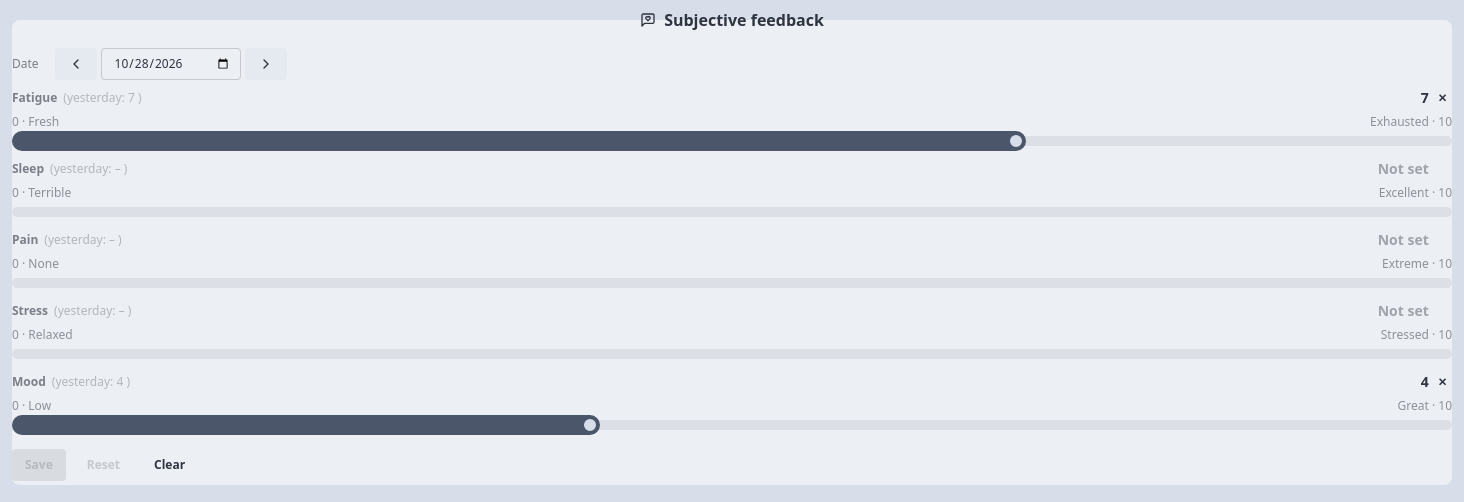
HooperIndexForm › restores the loaded values with the Reset button
Expected: the button "Reset" is disabled, [74,449,133,481]
Set the slider labelled "fatigue (yesterday: 7 )" to "9" at (1302, 141), box [12,131,1452,151]
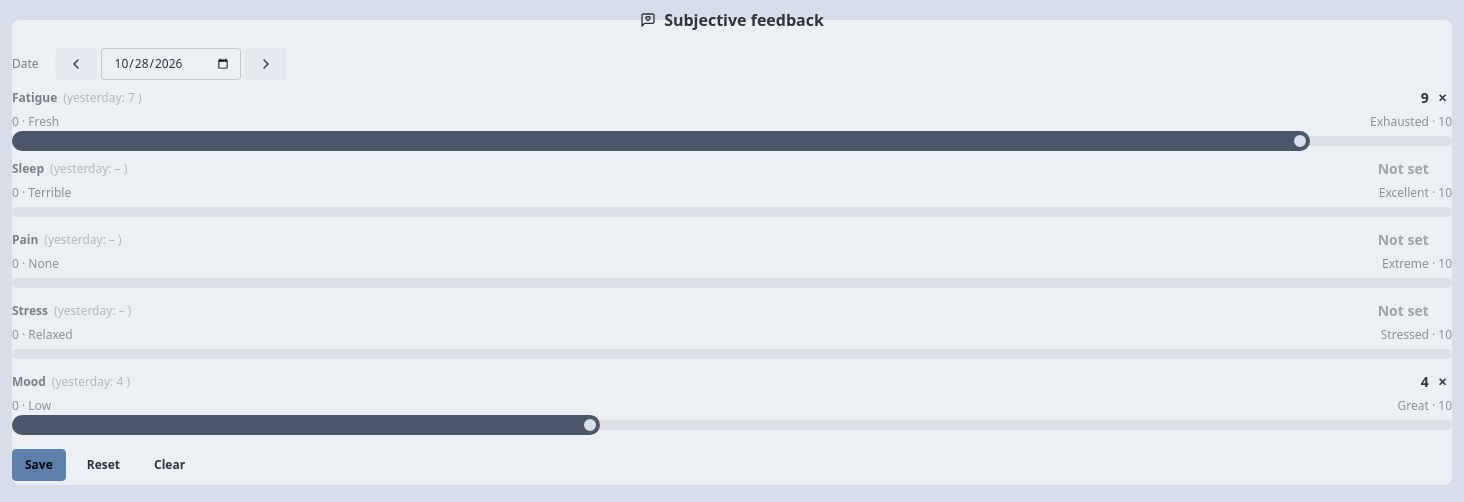
Click the button "Clear" at (170, 465), box [141,449,198,481]
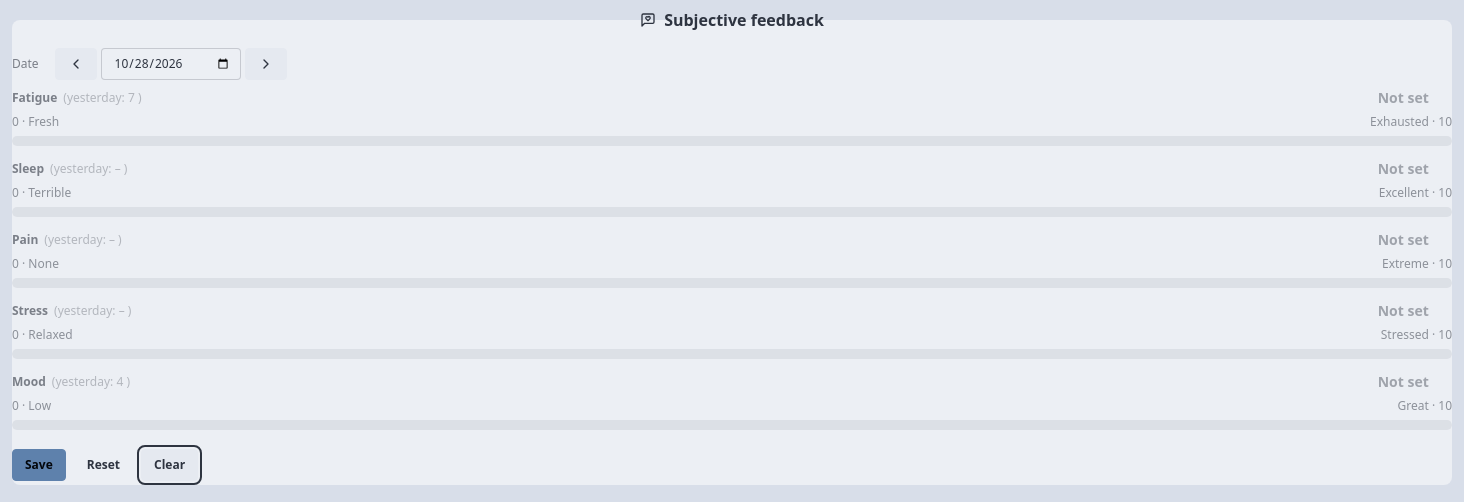
Expected: the button "Reset" is enabled
Click the button "Reset" at (103, 465), box [74,449,133,481]
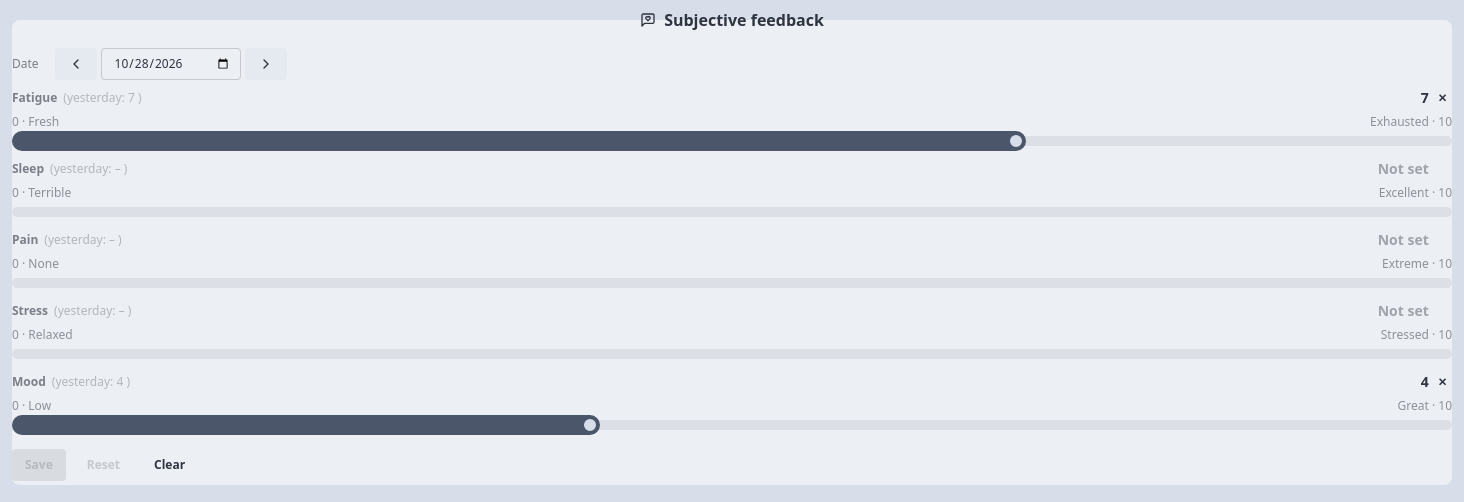
Expected: the button "Reset" is disabled, [74,449,133,481]
Expected: the button "Save" is disabled, [12,449,66,481]
